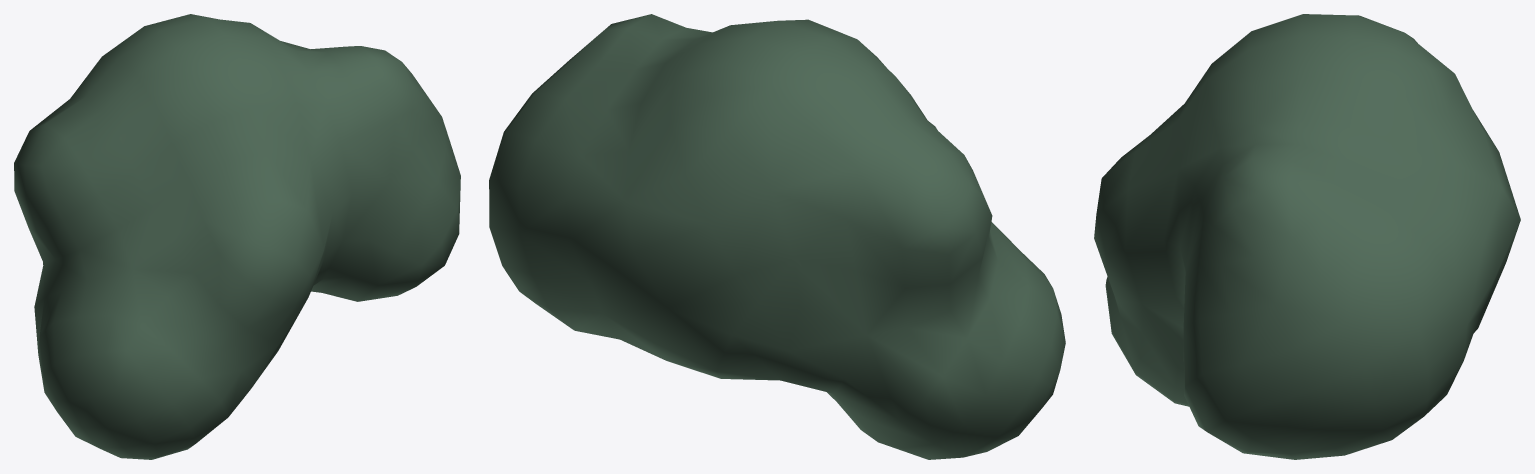
3 renders of one model, left to right at view 1: azimuth 30°, elevation 25°; view 2: azimuth 150°, elevation 25°; view 3: azimuth 270°, elevation 25°, orthographic. The views are drawn at different scales.
Visible parts, largest first — view 1: PM3D_Sphere3D1_6; view 2: PM3D_Sphere3D1_6; view 3: PM3D_Sphere3D1_6.
Part boxes in pixels (left/top/right/bottom): PM3D_Sphere3D1_6: left=14, top=14, right=460, bottom=459; PM3D_Sphere3D1_6: left=489, top=14, right=1065, bottom=459; PM3D_Sphere3D1_6: left=1094, top=14, right=1520, bottom=459.
Size of the model in its own units: 0.0304 by 0.0249 by 0.0223.
